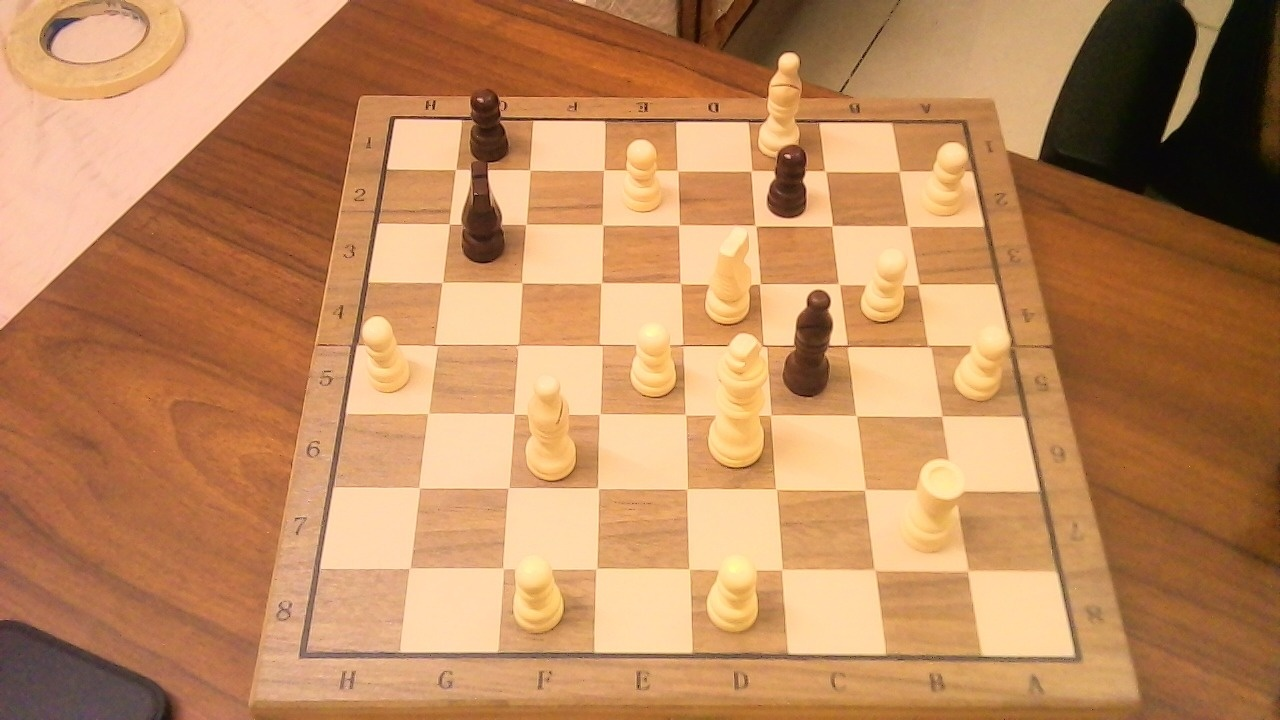B: (516, 361, 586, 484), (753, 41, 812, 162)
K: (697, 320, 777, 472)
N: (694, 215, 762, 329)
P: (505, 544, 572, 638), (699, 544, 767, 636), (947, 316, 1018, 404), (617, 312, 681, 402), (354, 307, 416, 398), (854, 238, 917, 326), (914, 133, 977, 219), (611, 130, 669, 217)
R: (893, 448, 973, 559)
b: (778, 276, 850, 401)
n: (452, 182, 516, 266)
p: (760, 135, 820, 222), (462, 80, 518, 164)
